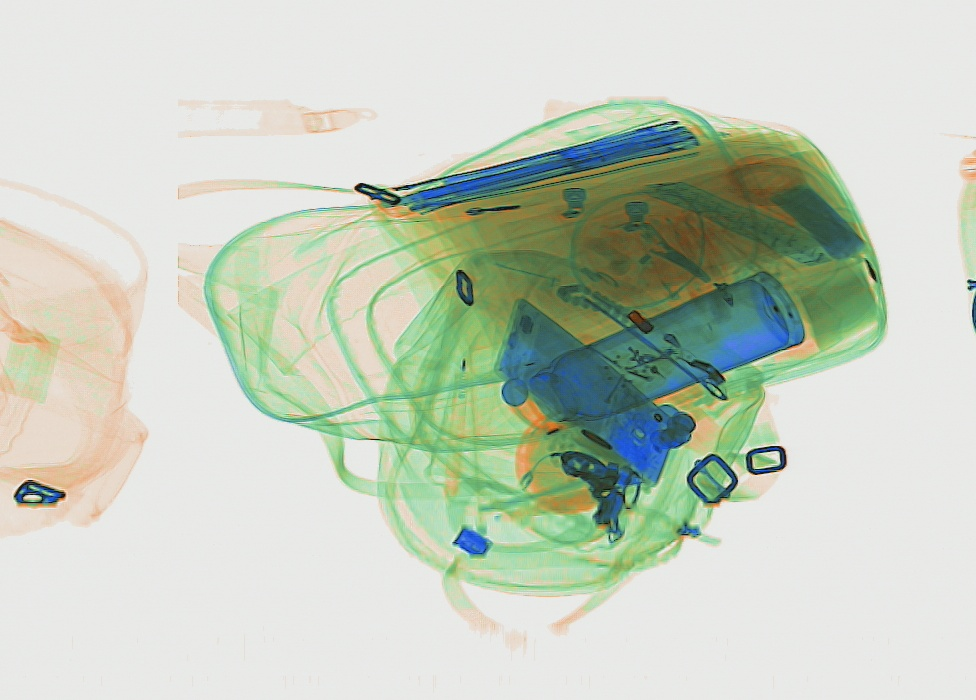scissors: (610, 214, 712, 285)
